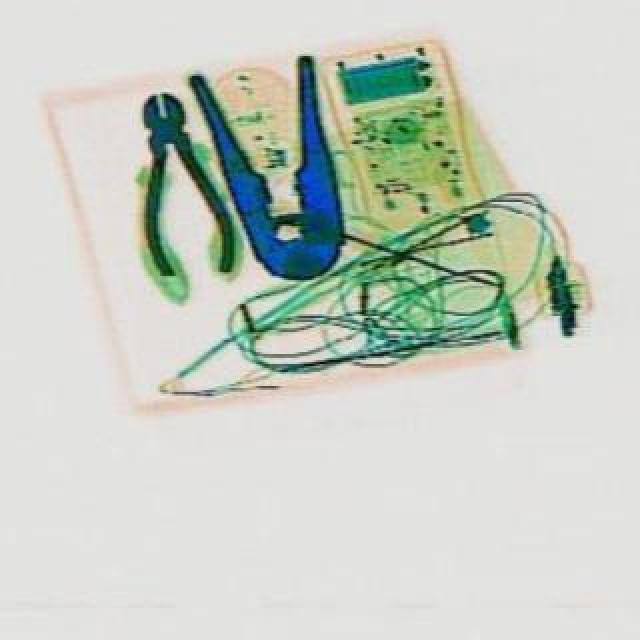wrench: (186, 48, 366, 292), (114, 84, 240, 282)
